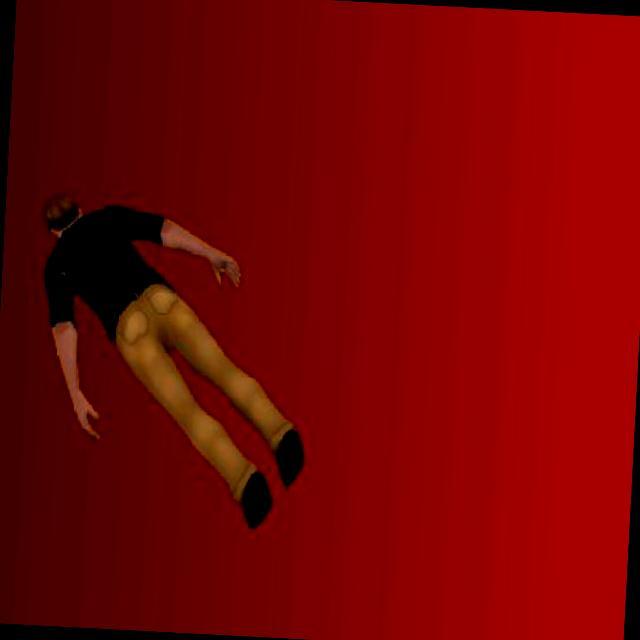Person: (26, 188, 322, 536)
